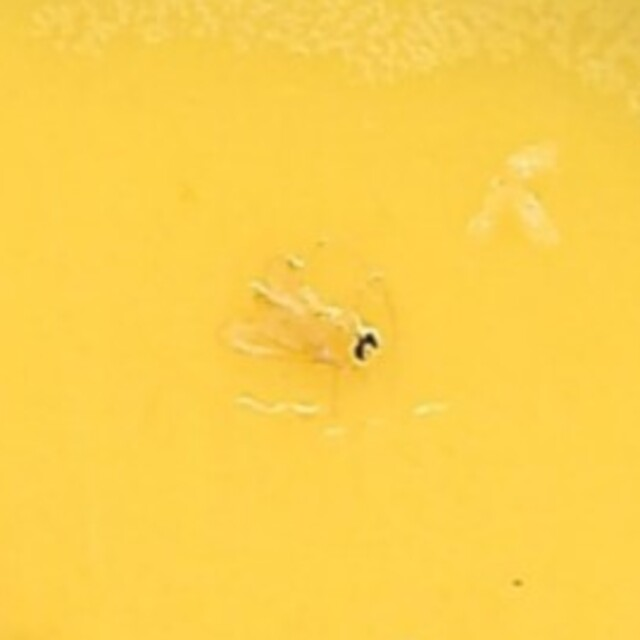Nematocera: (238, 247, 402, 393)
